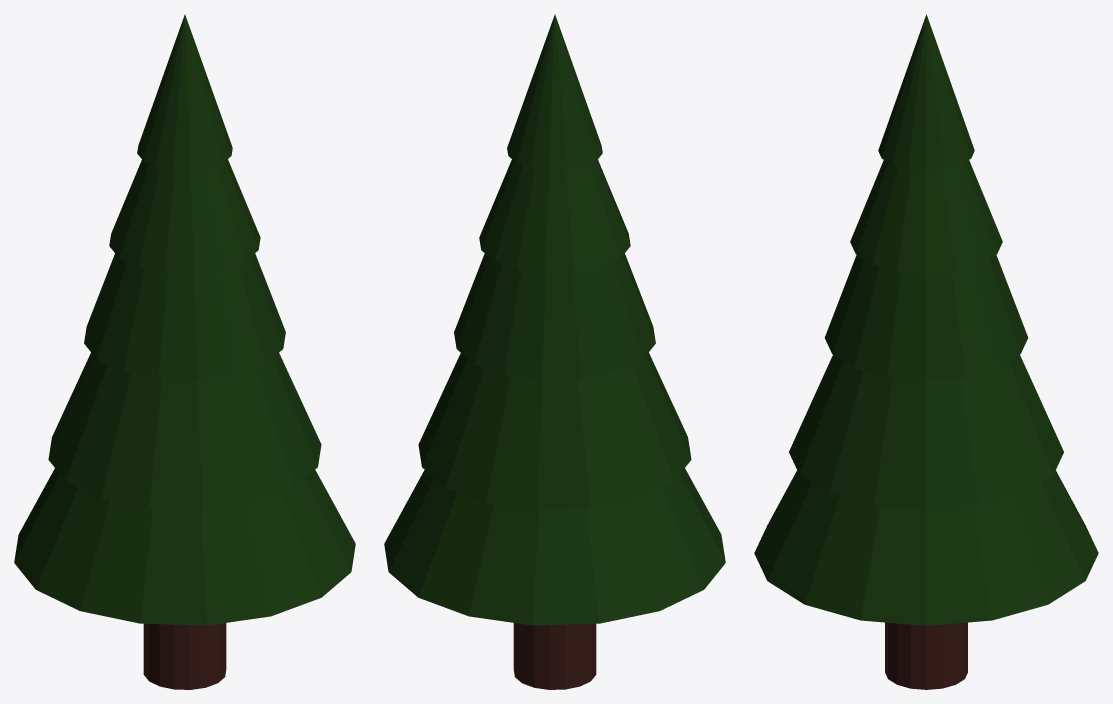
The model's file is Tanne2.fbx.
3 views of the same model, side by side, from view 1: azimuth 30°, elevation 25°; view 2: azimuth 150°, elevation 25°; view 3: azimuth 270°, elevation 25° (orthographic).
Visible parts, largest first — view 1: Tanne2; view 2: Tanne2; view 3: Tanne2.
Boxes of the visible parts, <box> form: Tanne2: <box>14,14,355,689</box>; Tanne2: <box>384,14,725,689</box>; Tanne2: <box>754,14,1098,689</box>.
Bounding box in the file's own units: 1148 × 2422 × 1148.
